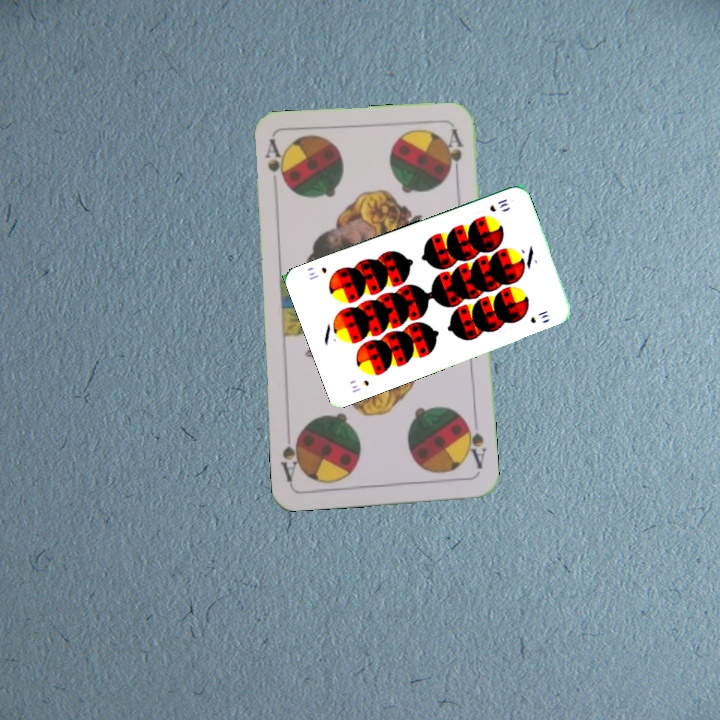S10: (485, 195, 511, 214), (347, 376, 372, 395)
SA: (460, 415, 489, 472), (260, 136, 287, 187)
